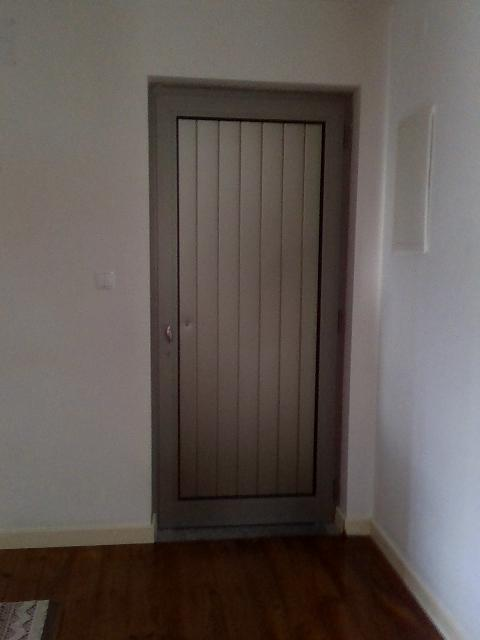closed_door: (148, 72, 355, 542)
